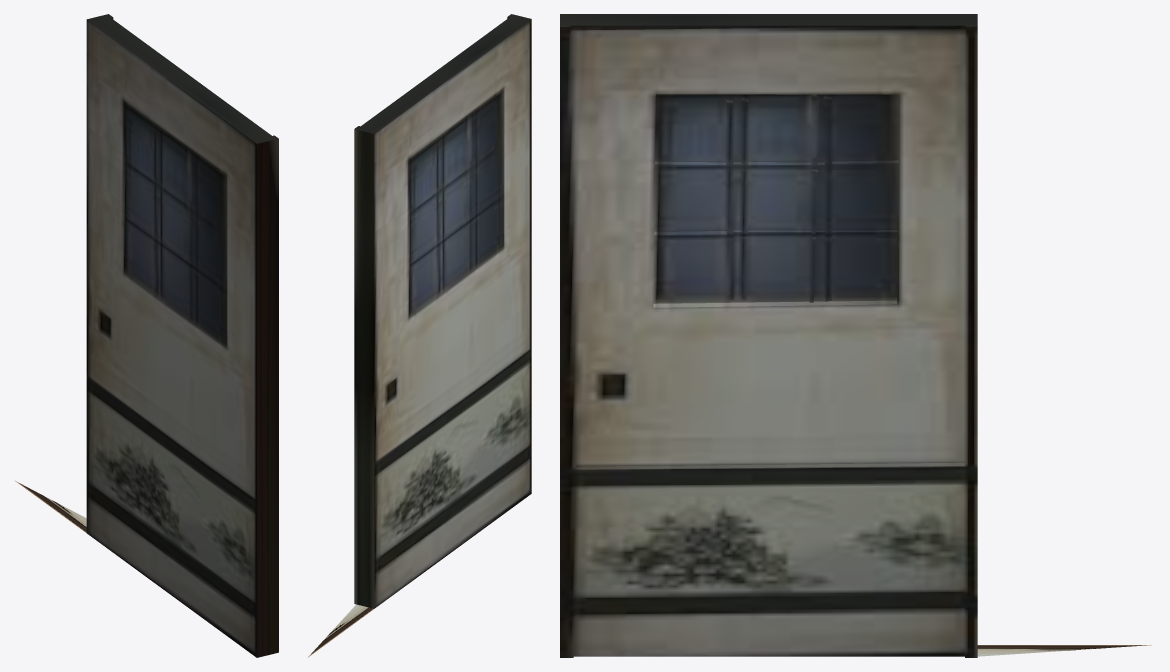
Rendered from ふすま.fbx.
The picture shows the model from 3 angles, left to right: view 1: azimuth 30°, elevation 25°; view 2: azimuth 150°, elevation 25°; view 3: azimuth 270°, elevation 25°; orthographic projection. The views are drawn at different scales.
Visible parts, largest first — view 1: Cube; view 2: Cube; view 3: Cube.
Boxes of the visible parts, x1,y1,x2,y2 form: Cube: (15, 14, 278, 657); Cube: (308, 14, 531, 657); Cube: (560, 14, 1151, 657).
Bounding box in the file's own units: 11.14 × 250 × 214.
